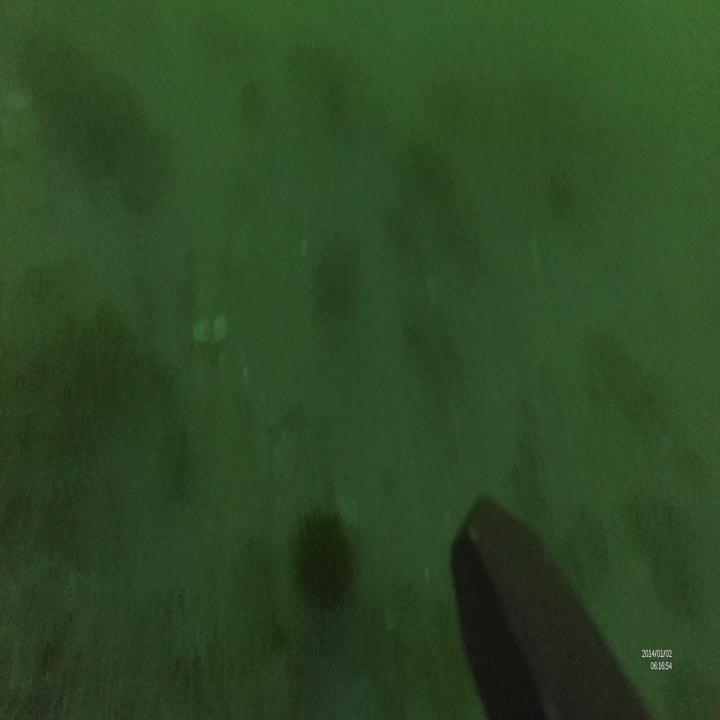echinus: (283, 506, 354, 603)
